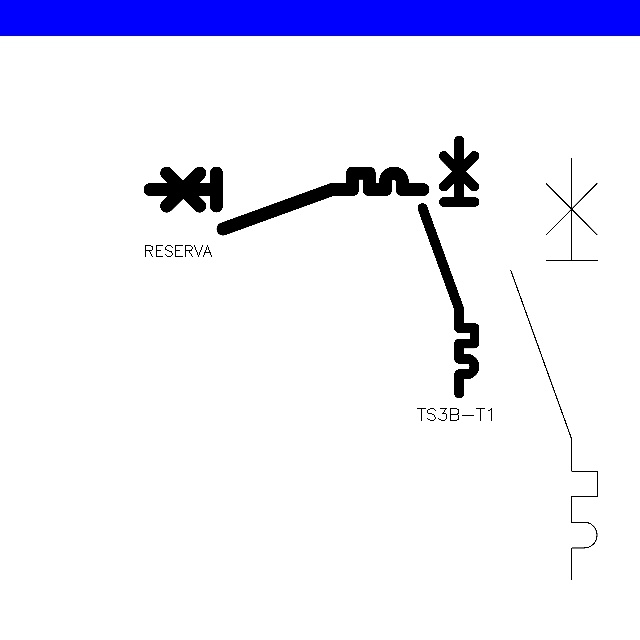interruptor_termomagnetico: (500, 147, 608, 591), (143, 166, 430, 236), (416, 134, 481, 400)
